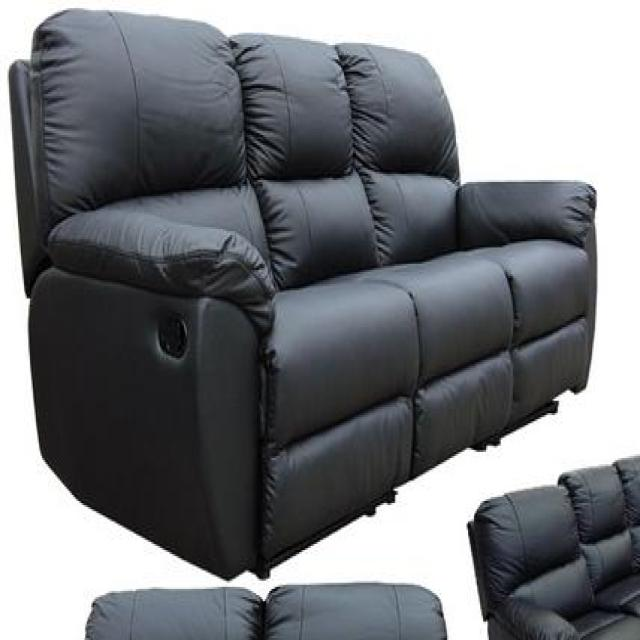sofa: (7, 6, 598, 584)
